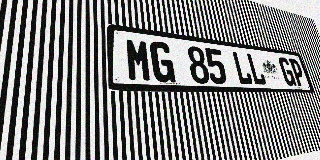5: (204, 48, 228, 84)
8: (186, 45, 211, 84)
G: (149, 41, 176, 83), (277, 57, 297, 86)
L: (231, 51, 253, 85), (246, 53, 267, 85)
M: (125, 38, 153, 82)
P: (288, 58, 307, 87)
